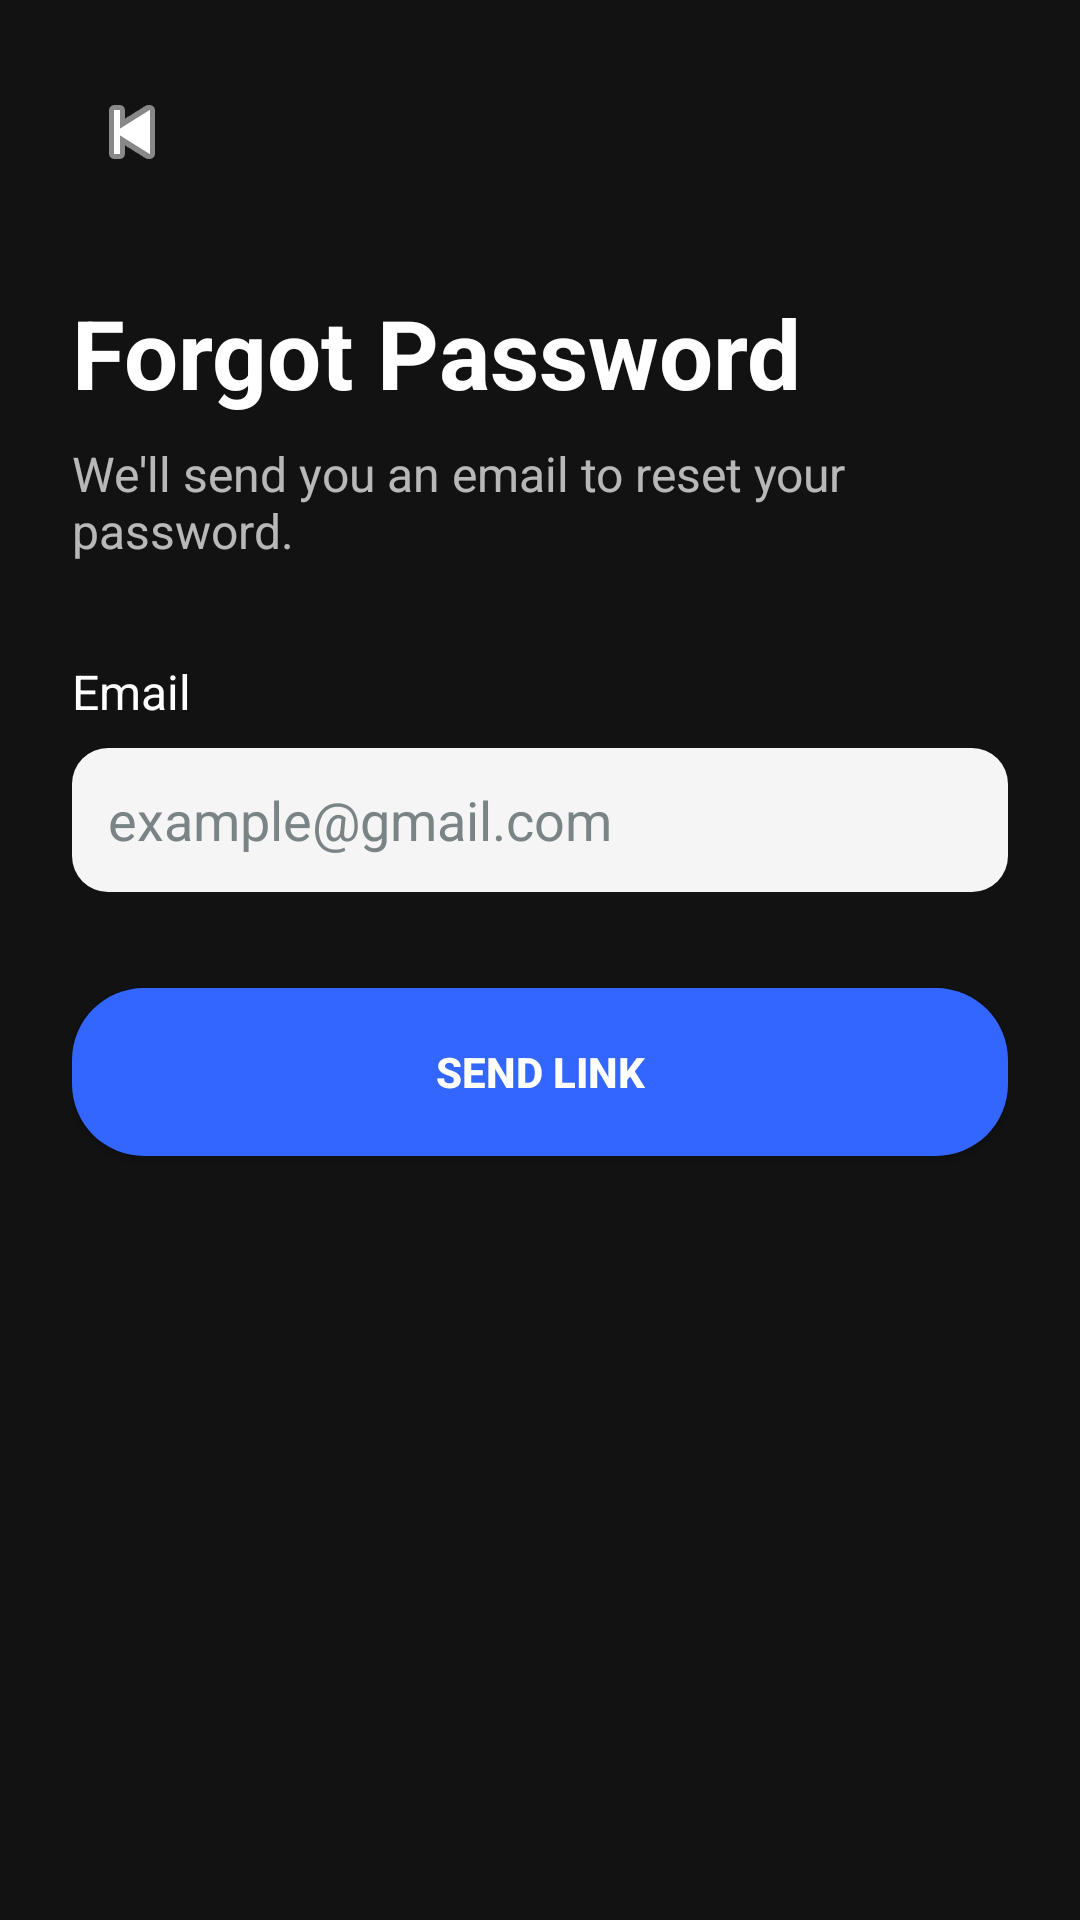

Where icons sit on this 1080px×1920px app screen, as (x1, y1, x2, y2):
Back: (109, 105, 155, 159)
